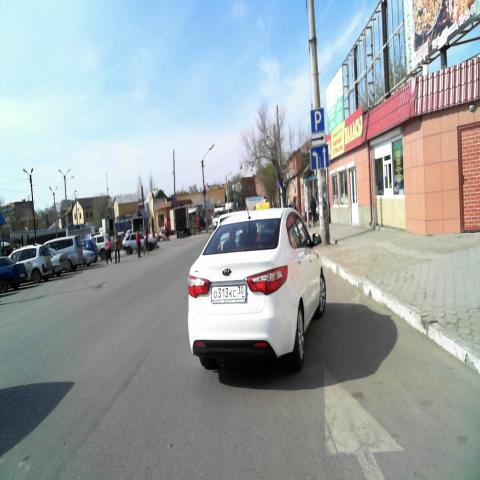8_3_1: (312, 135, 325, 146)
